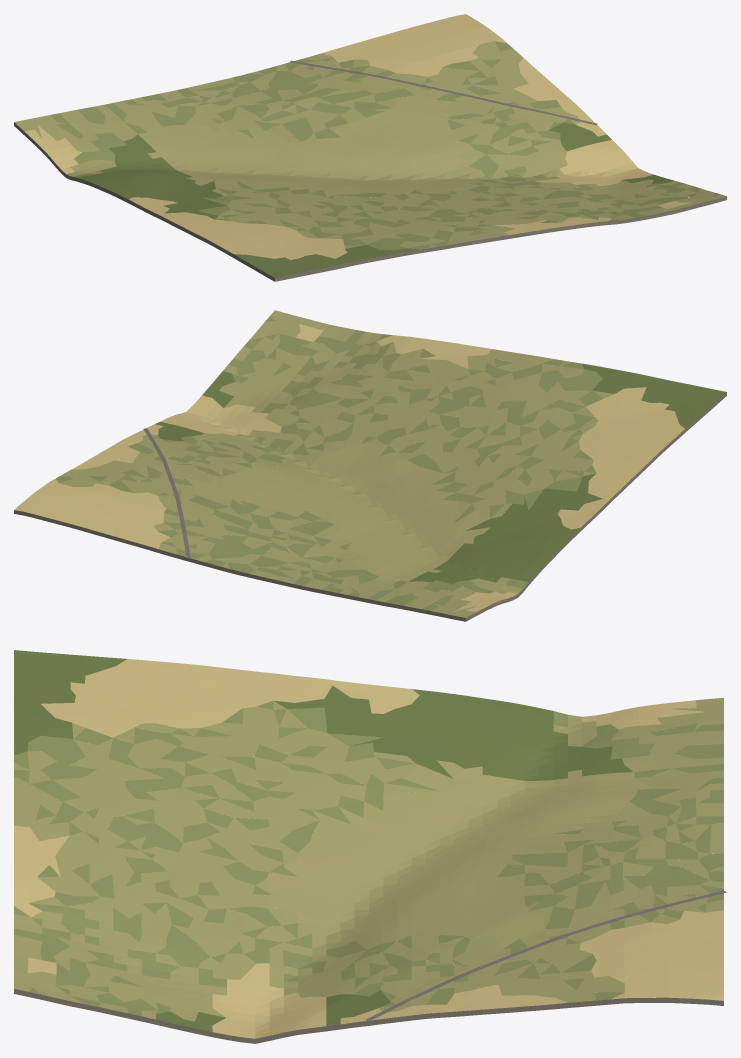
Rendered from parca_+11_-1-uzak.glb.
3 renders of one model, top to bottom at view 1: azimuth 30°, elevation 25°; view 2: azimuth 150°, elevation 25°; view 3: azimuth 270°, elevation 25°, orthographic. The views are drawn at different scales.
Parts seen in each view (by area): view 1: parca_+11_-1_arazi_uzak, parca_+11_-1_yollar_uzak; view 2: parca_+11_-1_arazi_uzak, parca_+11_-1_yollar_uzak; view 3: parca_+11_-1_arazi_uzak, parca_+11_-1_yollar_uzak.
Boxes of the visible parts, box(x1,y1,x2,y2) form: parca_+11_-1_arazi_uzak: box(14, 14, 726, 281); parca_+11_-1_yollar_uzak: box(290, 60, 597, 125); parca_+11_-1_arazi_uzak: box(14, 310, 726, 621); parca_+11_-1_yollar_uzak: box(143, 428, 190, 558); parca_+11_-1_arazi_uzak: box(14, 650, 723, 1043); parca_+11_-1_yollar_uzak: box(365, 890, 726, 1021).
Size of the model in its own units: 1003 by 146 by 1004.
